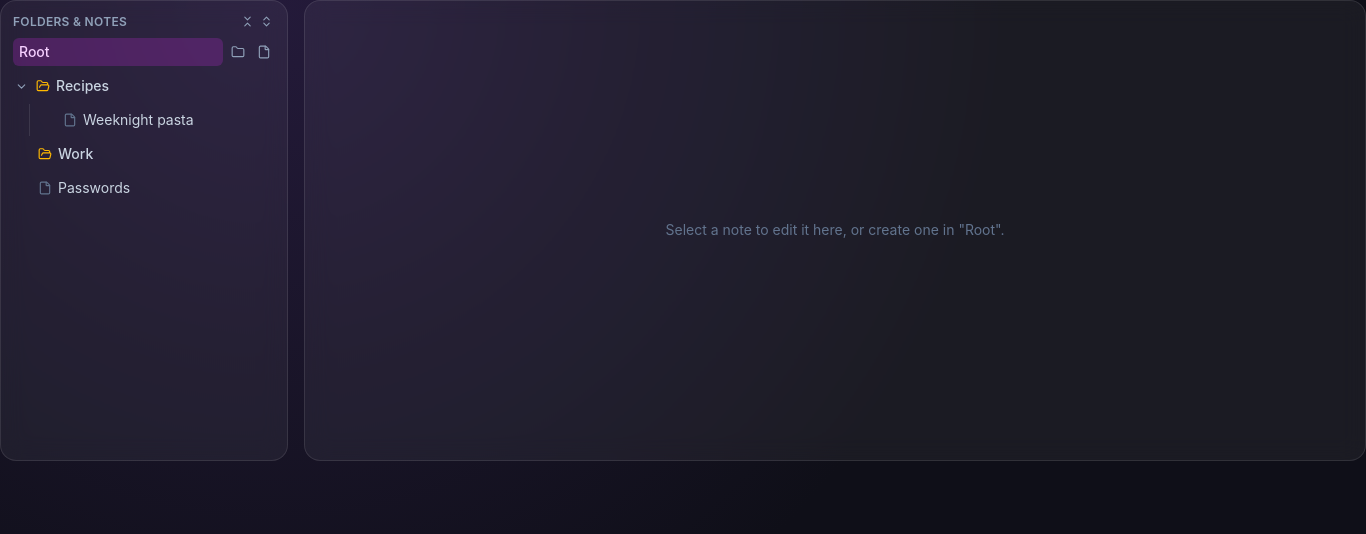
Test: NotesView › creates a note in the active folder via the + Note button and opens it, pre-filled, in the editor pane
Expected: the button "Root" is shown, top-left (13, 38), bottom-right (223, 66)
# Click into the Recipes folder first so the new note is created there.
Click the button "Recipes": coordinates (150, 86) top-left (56, 74), bottom-right (245, 98)
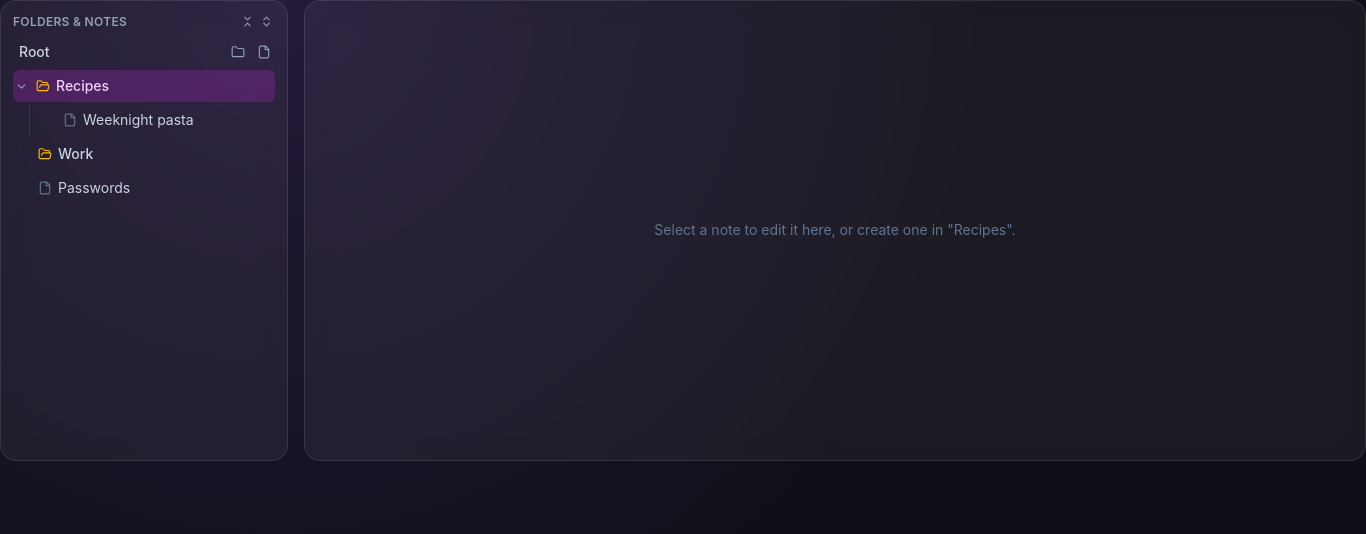
Click the button named "New note": coordinates (264, 52) top-left (253, 41), bottom-right (275, 63)
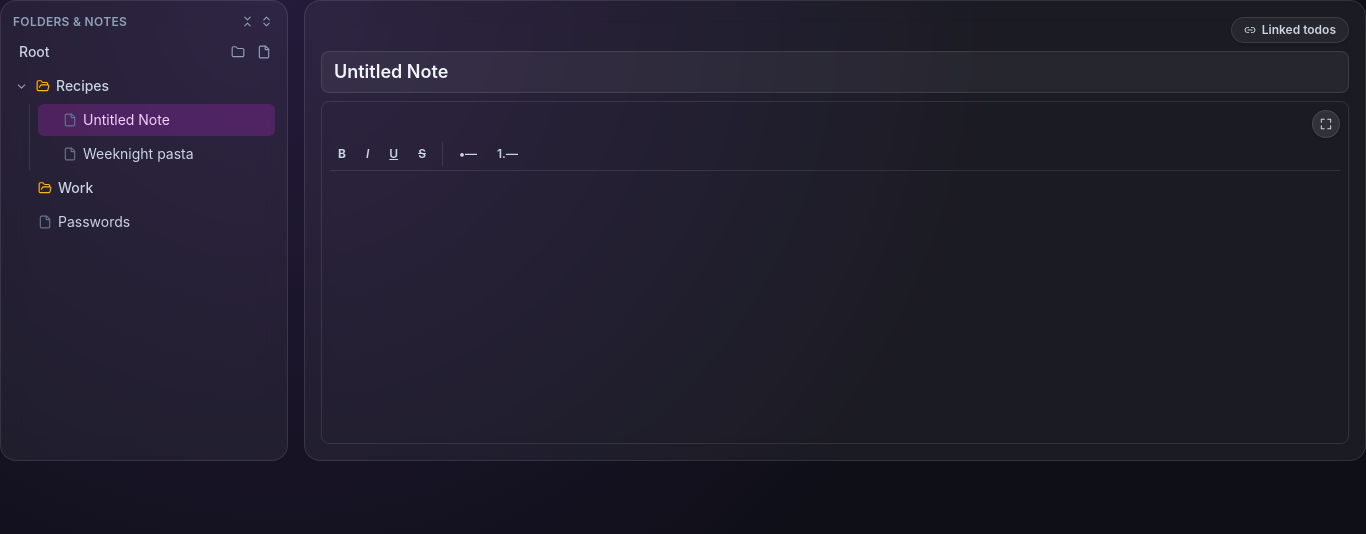
Expected: the field named "Note name" holds "Untitled Note", top-left (321, 51), bottom-right (1349, 93)
